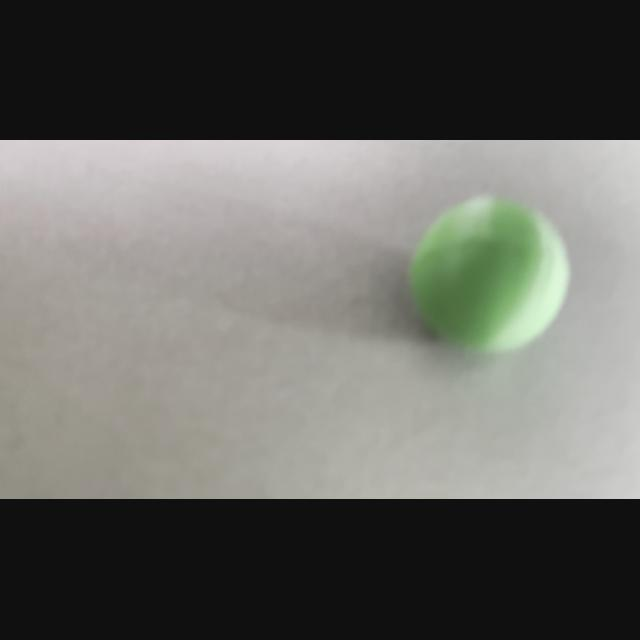objects: (391, 181, 585, 361)
